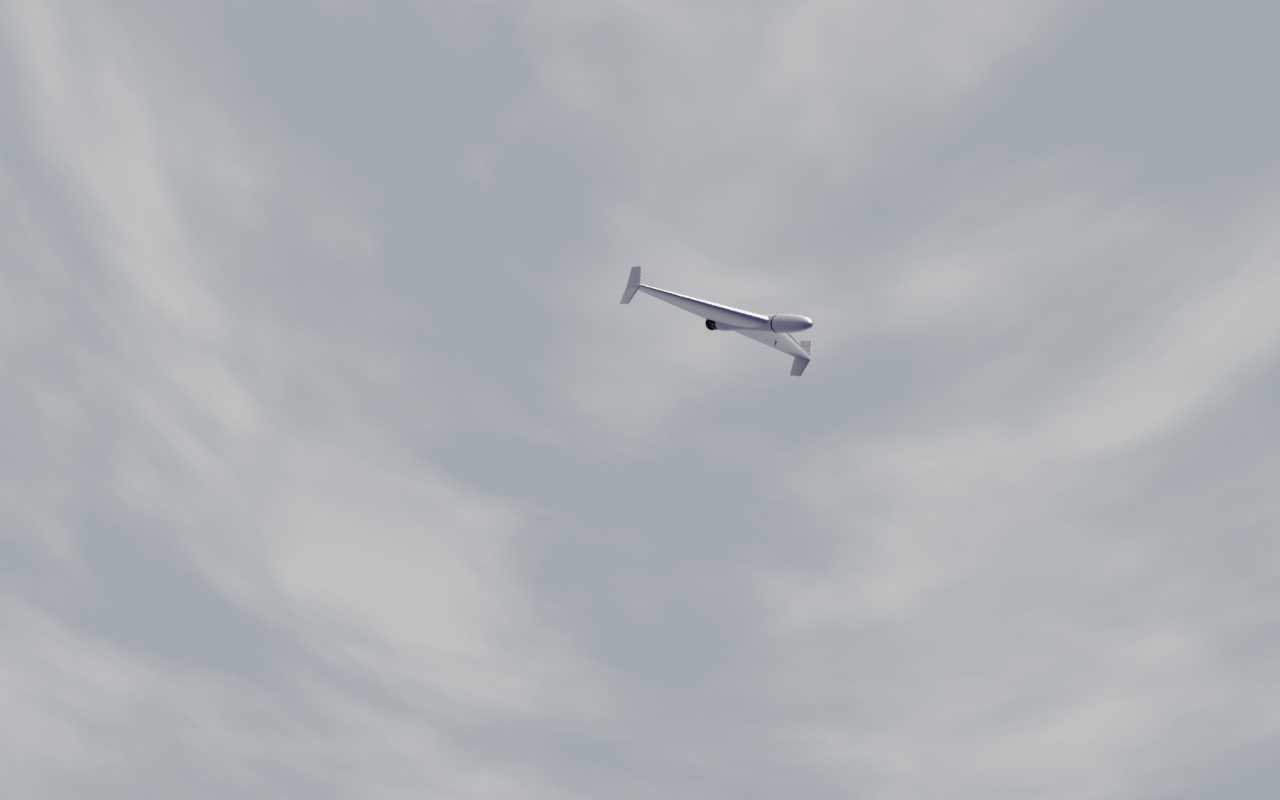shahed: (620, 266, 815, 378)
